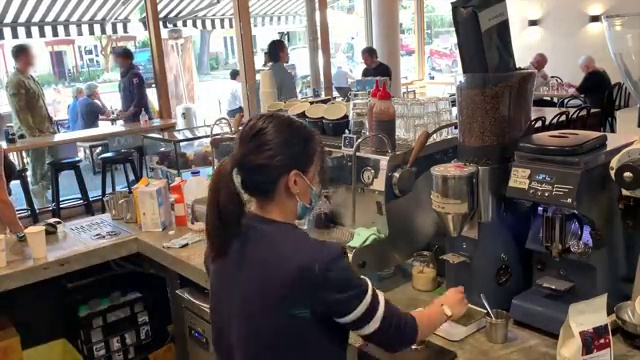client: (13, 40, 49, 131), (112, 45, 151, 120), (580, 53, 612, 116), (221, 69, 246, 129), (82, 80, 109, 124), (530, 47, 556, 87), (67, 82, 86, 125)
employé: (245, 119, 337, 360), (264, 38, 293, 110)
machine: (518, 146, 618, 329), (295, 113, 432, 238), (439, 77, 499, 301)
tables: (300, 85, 336, 108), (537, 82, 574, 99)
tables_vides: (6, 121, 177, 201), (533, 106, 574, 142)
